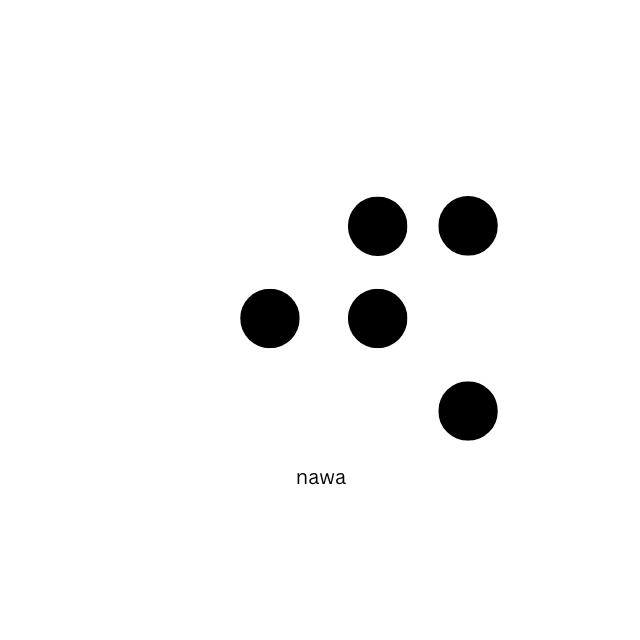dot_5: (147, 200, 301, 445)
two_cell_non_alphabet_nawa: (345, 195, 499, 441)
